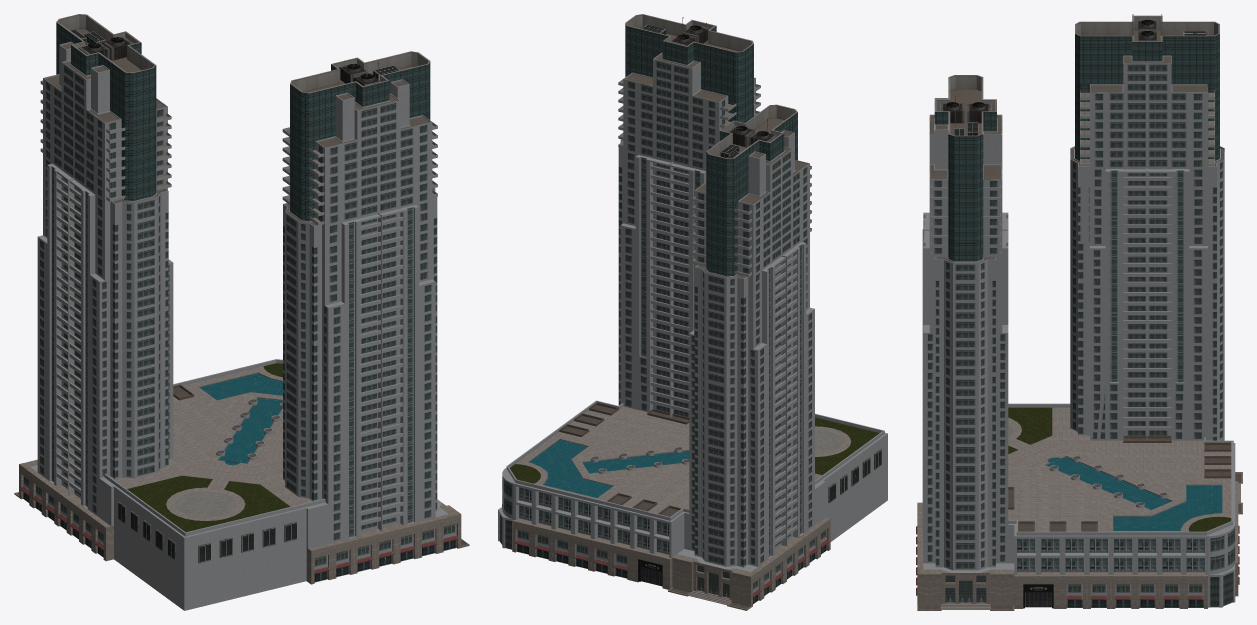
Rendered from tower.glb.
3 renders of one model, left to right at view 1: azimuth 30°, elevation 25°; view 2: azimuth 150°, elevation 25°; view 3: azimuth 270°, elevation 25°, orthographic. The views are drawn at different scales.
Visible parts, largest first — view 1: hivizcayne; view 2: hivizcayne; view 3: hivizcayne.
Part boxes in pixels (<box>): hivizcayne: <box>14,14,469,610</box>; hivizcayne: <box>498,14,887,610</box>; hivizcayne: <box>916,14,1242,610</box>.
Bounding box in the file's own units: 950 × 1525 × 950.
1 material, 1 textured.
